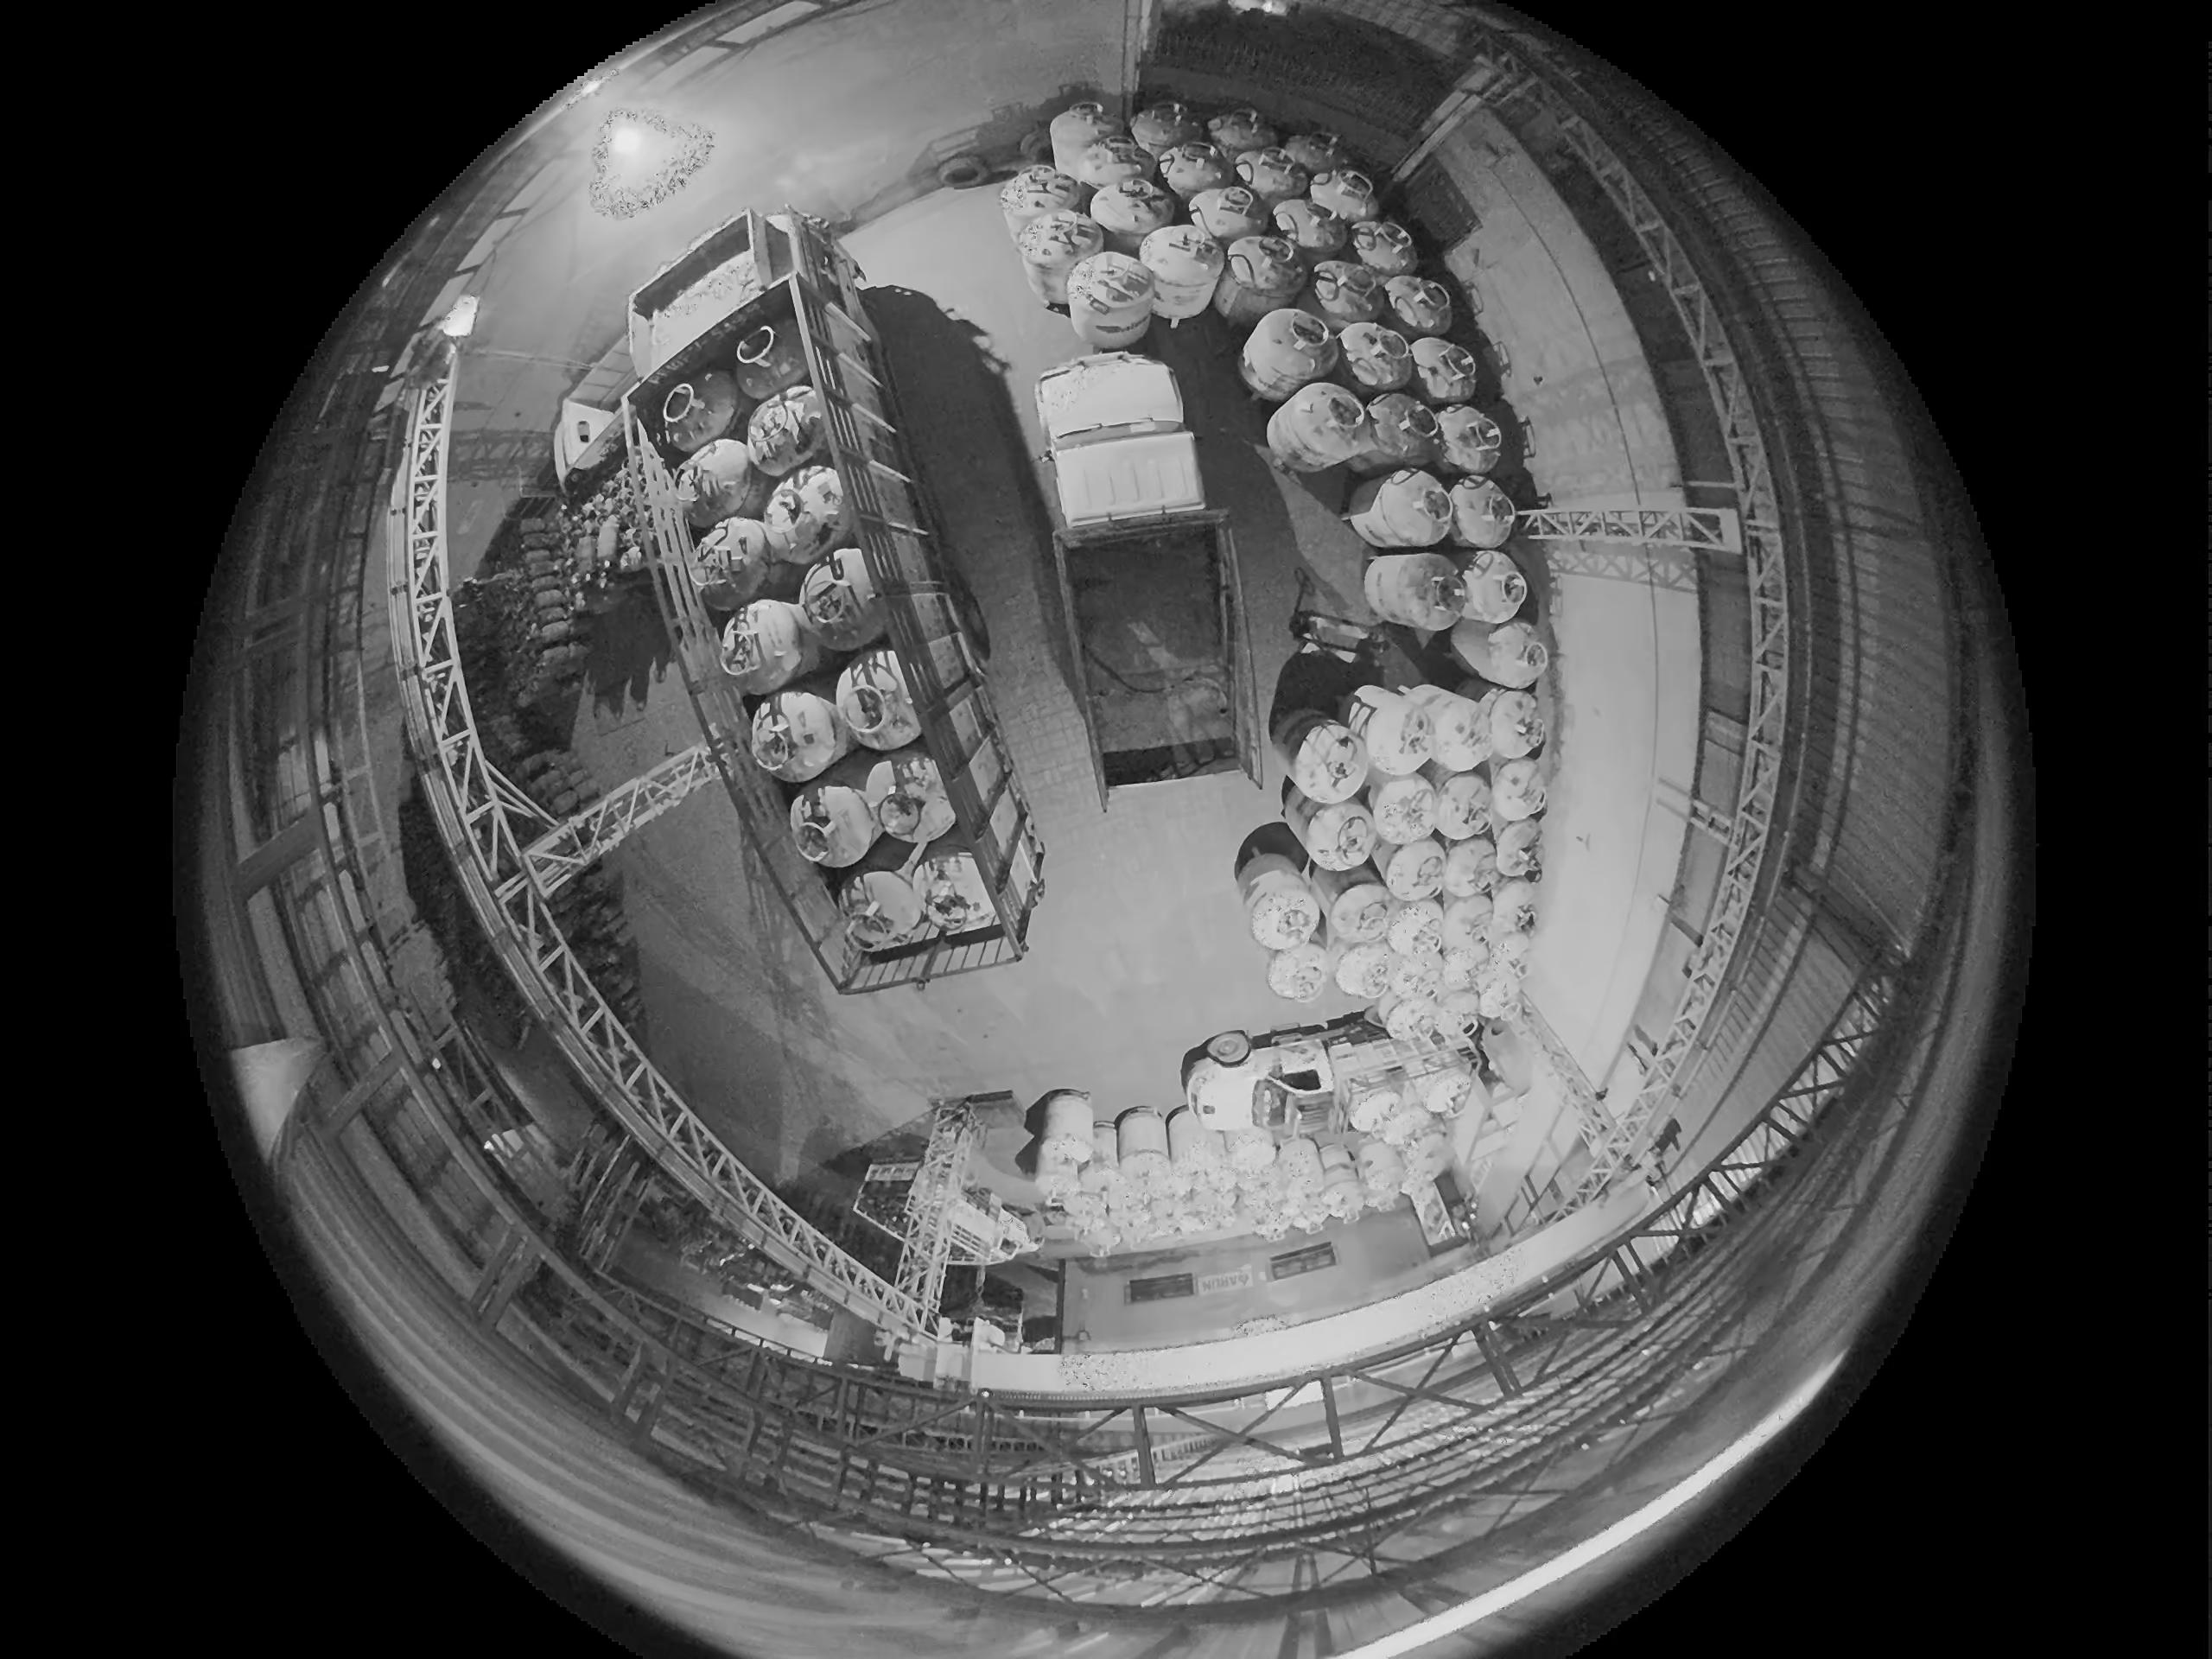cylinder: (1266, 382, 1374, 491), (1367, 542, 1489, 634), (1104, 171, 1209, 274), (1360, 474, 1465, 568), (1240, 315, 1362, 396), (1238, 850, 1315, 969), (1066, 253, 1157, 350), (1282, 697, 1371, 795), (1400, 683, 1493, 774), (1268, 185, 1360, 274), (1453, 469, 1536, 563), (1451, 404, 1533, 497), (1285, 793, 1379, 873), (1132, 232, 1231, 307), (1015, 1089, 1099, 1175), (1226, 234, 1308, 319), (1357, 315, 1423, 415), (1371, 403, 1451, 484), (998, 164, 1092, 230), (1479, 558, 1545, 648), (1109, 1080, 1174, 1171), (1393, 270, 1472, 342), (1280, 1140, 1343, 1227), (1327, 880, 1395, 960), (1362, 204, 1428, 284), (1313, 260, 1386, 329), (1425, 333, 1487, 413), (1369, 774, 1437, 845), (1460, 648, 1564, 694), (1334, 173, 1395, 249), (1437, 772, 1491, 857), (1494, 760, 1547, 845), (1233, 150, 1306, 211), (1385, 836, 1446, 904), (1291, 122, 1343, 200), (1418, 1070, 1489, 1122), (1322, 1147, 1366, 1229), (1386, 899, 1446, 958), (1139, 96, 1195, 157), (1047, 105, 1122, 150), (1385, 997, 1454, 1044), (1205, 99, 1277, 145), (1179, 150, 1235, 207), (1357, 1141, 1404, 1208), (1437, 990, 1491, 1046), (1352, 1089, 1400, 1147), (1162, 1114, 1217, 1162), (1228, 1129, 1277, 1180), (1446, 896, 1494, 941), (1491, 695, 1543, 728), (1064, 1192, 1108, 1230)
truck: (597, 199, 1033, 988), (1036, 352, 1249, 795), (521, 362, 632, 486), (740, 199, 768, 247)
